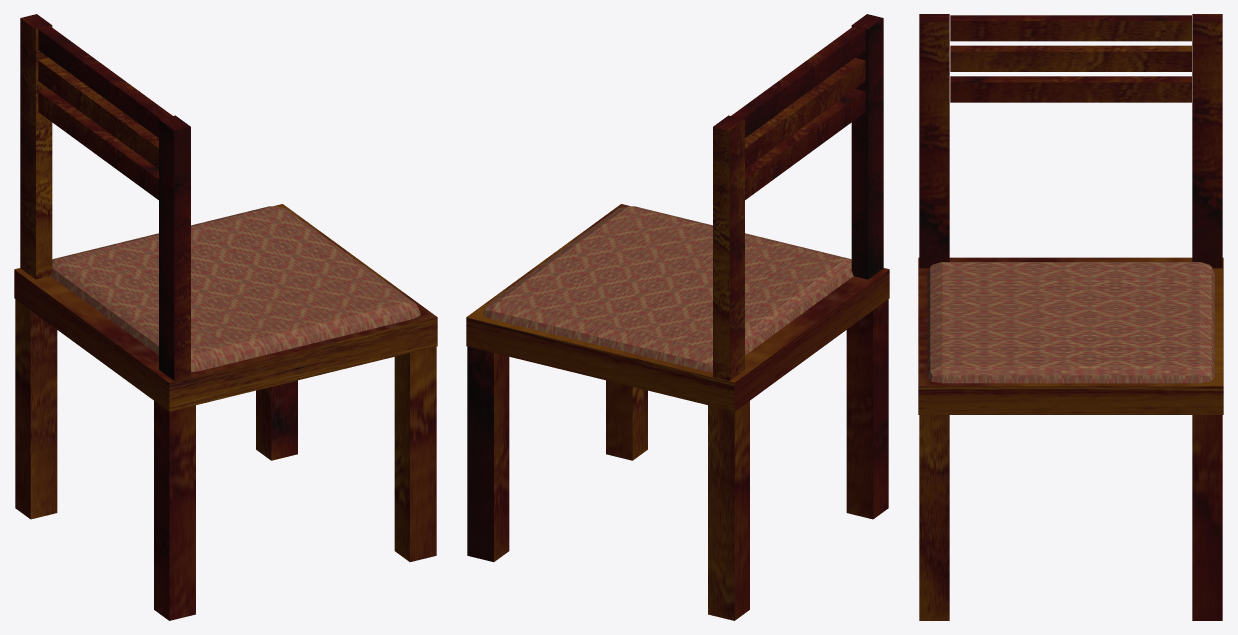
The model's file is стул1.fbx.
3 views of the same model, side by side, from view 1: azimuth 30°, elevation 25°; view 2: azimuth 150°, elevation 25°; view 3: azimuth 270°, elevation 25° (orthographic).
Parts seen in each view (by area): view 1: стул1; view 2: стул1; view 3: стул1.
Part boxes in pixels (left/top/right/bottom): стул1: left=14, top=14, right=437, bottom=620; стул1: left=466, top=14, right=889, bottom=620; стул1: left=918, top=14, right=1223, bottom=620.
Size of the model in its own units: 52.99 by 92.19 by 52.99.
Materials: 2 (2 with a texture image).
